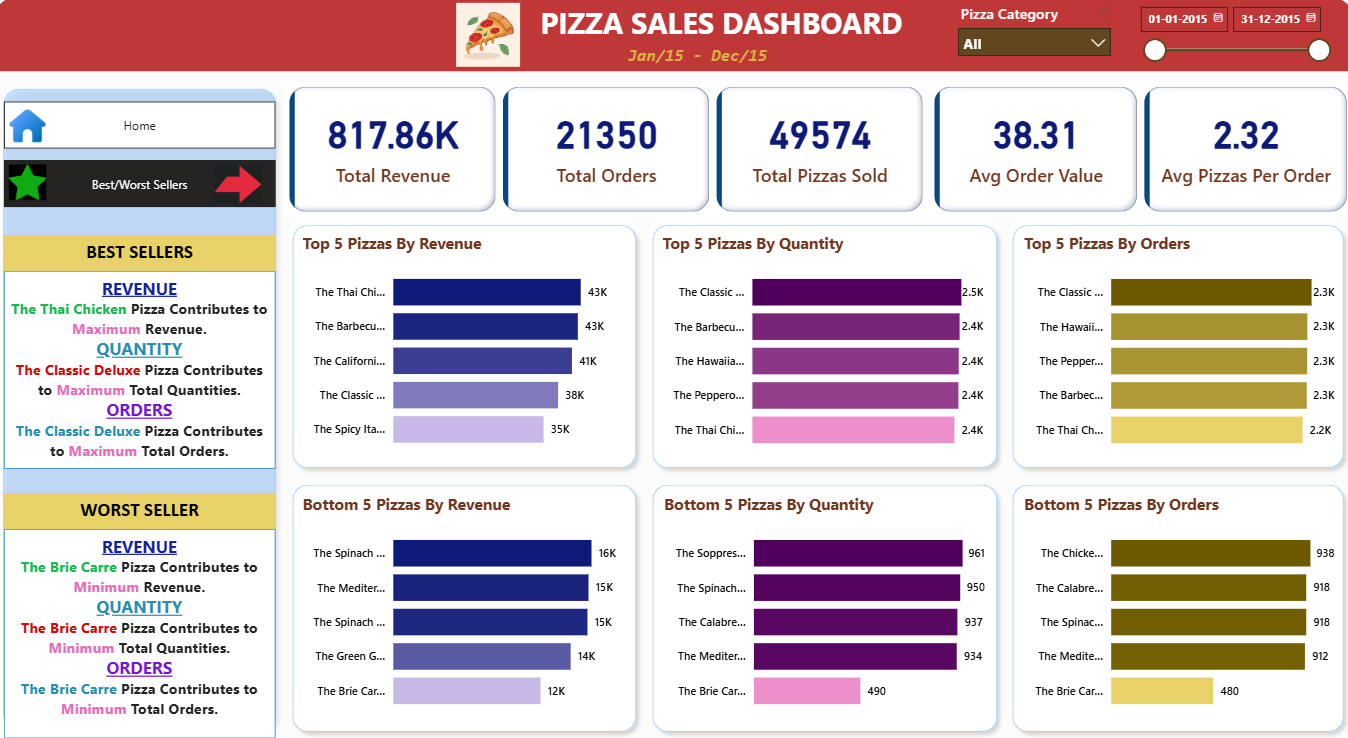

The page's visual inventory and layout, read from the dashboard file:
{"tool":"powerbi","page":{"name":"Best/Worst Sellers","canvas":[1500,820],"ordinal":1},"visuals":[{"type":"cardVisual","fields":{"Data":["Pizza_Sales.Total Revenue","Pizza_Sales.Total Orders","Pizza_Sales.Total Pizzas Sold"]},"box":[320,92.9,712.9,148.6],"z":0},{"type":"cardVisual","fields":{"Data":["Pizza_Sales.Avg Order Value","Pizza_Sales.Avg Pizzas Per Order"]},"box":[1032.9,92.9,467.1,148.6],"z":1000},{"type":"shape","box":[0,0,1500,81.2],"z":2000},{"type":"textbox","box":[594.3,0,418.8,64.1],"z":3000},{"type":"textbox","box":[680,46.7,193.3,35],"z":4000},{"type":"image","box":[496.2,0,98.1,81.1],"z":5000},{"type":"shape","box":[320,242.5,397.5,286.2],"z":6000},{"type":"shape","box":[0,91.4,320,727.1],"z":7000},{"type":"textbox","box":[10,301.4,300,218.6],"z":8000},{"type":"textbox","box":[10,261.4,300,40],"z":9000},{"type":"textbox","box":[10,547.1,300,40],"z":10000},{"type":"textbox","box":[10,587.1,300,231.4],"z":11000},{"type":"slicer","fields":{"Values":["Pizza_Sales.pizza_category"]},"box":[1053.8,0,188.8,81.2],"z":12000},{"type":"slicer","fields":{"Values":["Pizza_Sales.order_date"]},"box":[1253.8,0,231.2,81.2],"z":13000},{"type":"shape","box":[717.5,242.5,398.8,286.2],"z":14000},{"type":"shape","box":[1116.2,242.5,383.8,286.2],"z":15000},{"type":"shape","box":[320,528.8,397.5,291.2],"z":16000},{"type":"shape","box":[717.5,528.8,398.8,291.2],"z":17000},{"type":"shape","box":[1116.2,528.8,383.8,291.2],"z":18000},{"type":"barChart","title":"Top 5 Pizzas By Revenue","fields":{"Category":["Pizza_Sales.pizza_name"],"Y":["Pizza_Sales.Total Revenue"]},"box":[335,258.8,367.5,253.8],"z":19000},{"type":"barChart","title":"Bottom 5 Pizzas By Revenue","fields":{"Category":["Pizza_Sales.pizza_name"],"Y":["Pizza_Sales.Total Revenue"]},"box":[334.3,547.1,368.6,254.3],"z":20000},{"type":"barChart","title":"Top 5 Pizzas By Quantity","fields":{"Category":["Pizza_Sales.pizza_name"],"Y":["Pizza_Sales.Total Pizzas Sold"]},"box":[732.9,258.6,364.3,254.3],"z":21000},{"type":"barChart","title":"Bottom 5 Pizzas By Quantity","fields":{"Category":["Pizza_Sales.pizza_name"],"Y":["Pizza_Sales.Total Pizzas Sold"]},"box":[734.3,547.1,364.3,254.3],"z":22000},{"type":"barChart","title":"Top 5 Pizzas By Orders","fields":{"Category":["Pizza_Sales.pizza_name"],"Y":["Pizza_Sales.Total Orders"]},"box":[1132.9,258.6,352.9,254.3],"z":23000},{"type":"barChart","title":"Bottom 5 Pizzas By Orders","fields":{"Category":["Pizza_Sales.pizza_name"],"Y":["Pizza_Sales.Total Orders"]},"box":[1132.9,547.1,352.9,254.3],"z":24000},{"type":"pageNavigator","box":[10,178.6,300,52.9],"z":25000},{"type":"pageNavigator","box":[10,114.3,300,52.9],"z":26000},{"type":"image","box":[227.1,178.6,82.9,52.9],"z":27000},{"type":"image","box":[10,116.7,52.2,50],"z":28000},{"type":"image","box":[10,178.2,51.8,52.7],"z":29000}]}

Visuals, with their boxes in screenshot pixels (x1, y1, x2, y2), scaled from the page's 1500x820 canvas onto the 1348x738 screenshot:
cardVisual - Pizza_Sales.Total Revenue x Pizza_Sales.Total Orders: x1=288, y1=84, x2=928, y2=217
cardVisual - Pizza_Sales.Avg Order Value x Pizza_Sales.Avg Pizzas Per Order: x1=928, y1=84, x2=1347, y2=217
shape: x1=0, y1=0, x2=1347, y2=73
textbox: x1=534, y1=0, x2=910, y2=58
textbox: x1=611, y1=42, x2=785, y2=74
image: x1=446, y1=0, x2=534, y2=73
shape: x1=288, y1=218, x2=645, y2=476
shape: x1=0, y1=82, x2=288, y2=737
textbox: x1=9, y1=271, x2=279, y2=468
textbox: x1=9, y1=235, x2=279, y2=271
textbox: x1=9, y1=492, x2=279, y2=528
textbox: x1=9, y1=528, x2=279, y2=737
slicer - Pizza_Sales.pizza_category: x1=947, y1=0, x2=1117, y2=73
slicer - Pizza_Sales.order_date: x1=1127, y1=0, x2=1335, y2=73
shape: x1=645, y1=218, x2=1003, y2=476
shape: x1=1003, y1=218, x2=1347, y2=476
shape: x1=288, y1=476, x2=645, y2=737
shape: x1=645, y1=476, x2=1003, y2=737
shape: x1=1003, y1=476, x2=1347, y2=737
"Top 5 Pizzas By Revenue" barChart: x1=301, y1=233, x2=631, y2=461
"Bottom 5 Pizzas By Revenue" barChart: x1=300, y1=492, x2=632, y2=721
"Top 5 Pizzas By Quantity" barChart: x1=659, y1=233, x2=986, y2=462
"Bottom 5 Pizzas By Quantity" barChart: x1=660, y1=492, x2=987, y2=721
"Top 5 Pizzas By Orders" barChart: x1=1018, y1=233, x2=1335, y2=462
"Bottom 5 Pizzas By Orders" barChart: x1=1018, y1=492, x2=1335, y2=721
pageNavigator: x1=9, y1=161, x2=279, y2=208
pageNavigator: x1=9, y1=103, x2=279, y2=150
image: x1=204, y1=161, x2=279, y2=208
image: x1=9, y1=105, x2=56, y2=150
image: x1=9, y1=160, x2=56, y2=208
